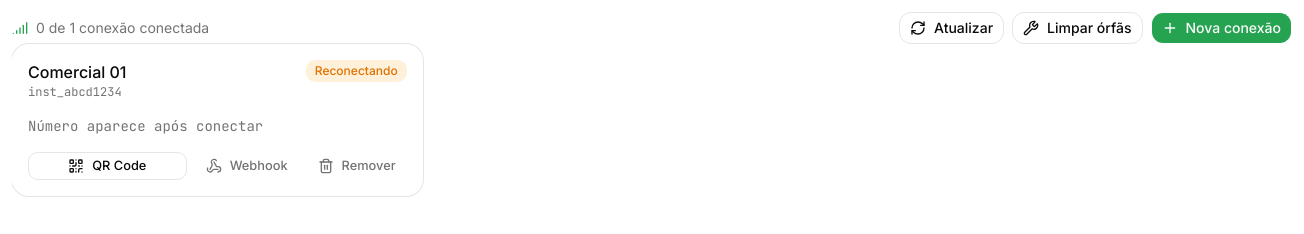
Scenario: remoção › mostra o erro devolvido pela ação
Click the button with aria-label "Remover Comercial 01".
click(357, 166)  # box [307,152,407,180]
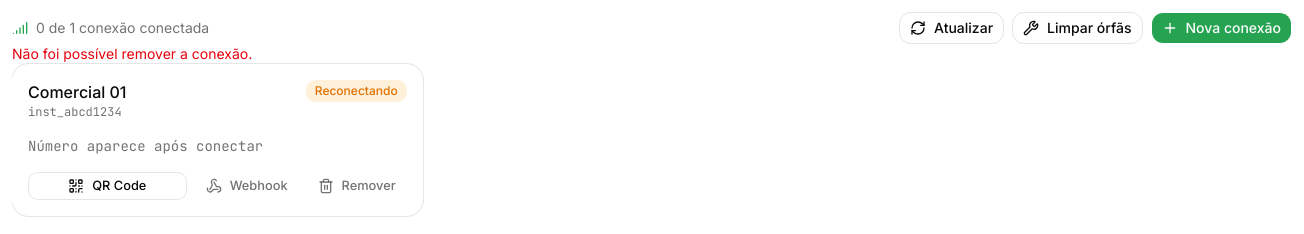
expect the message reads "Não foi possível remover a conexão.": met, box [12,45,252,62]
